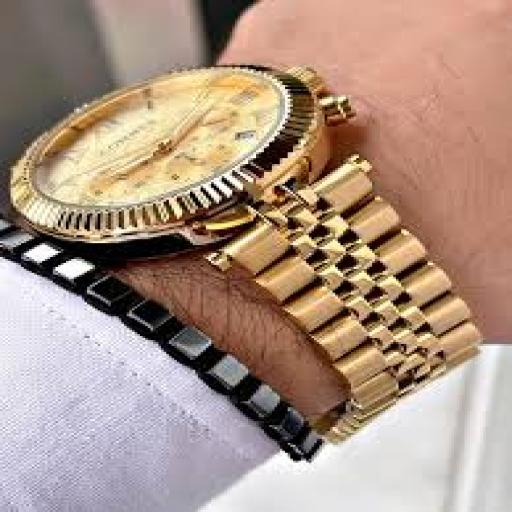KolSaati: (0, 30, 512, 450)
